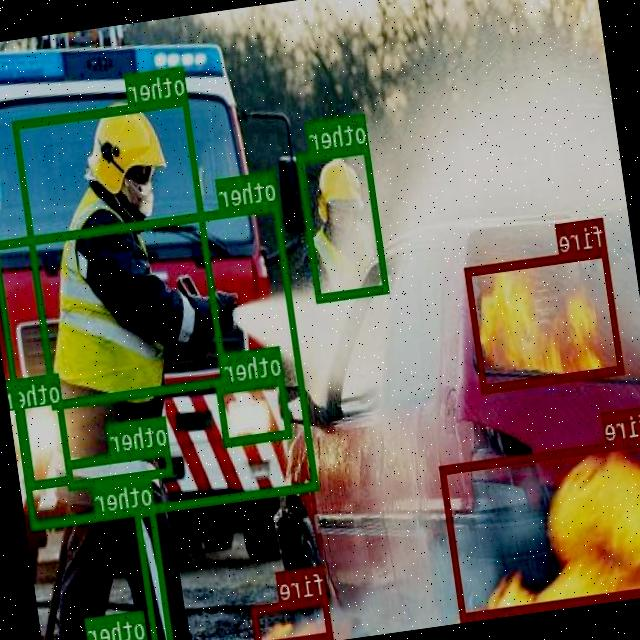fire: (441, 436, 640, 619), (465, 246, 625, 391), (252, 595, 333, 640)
